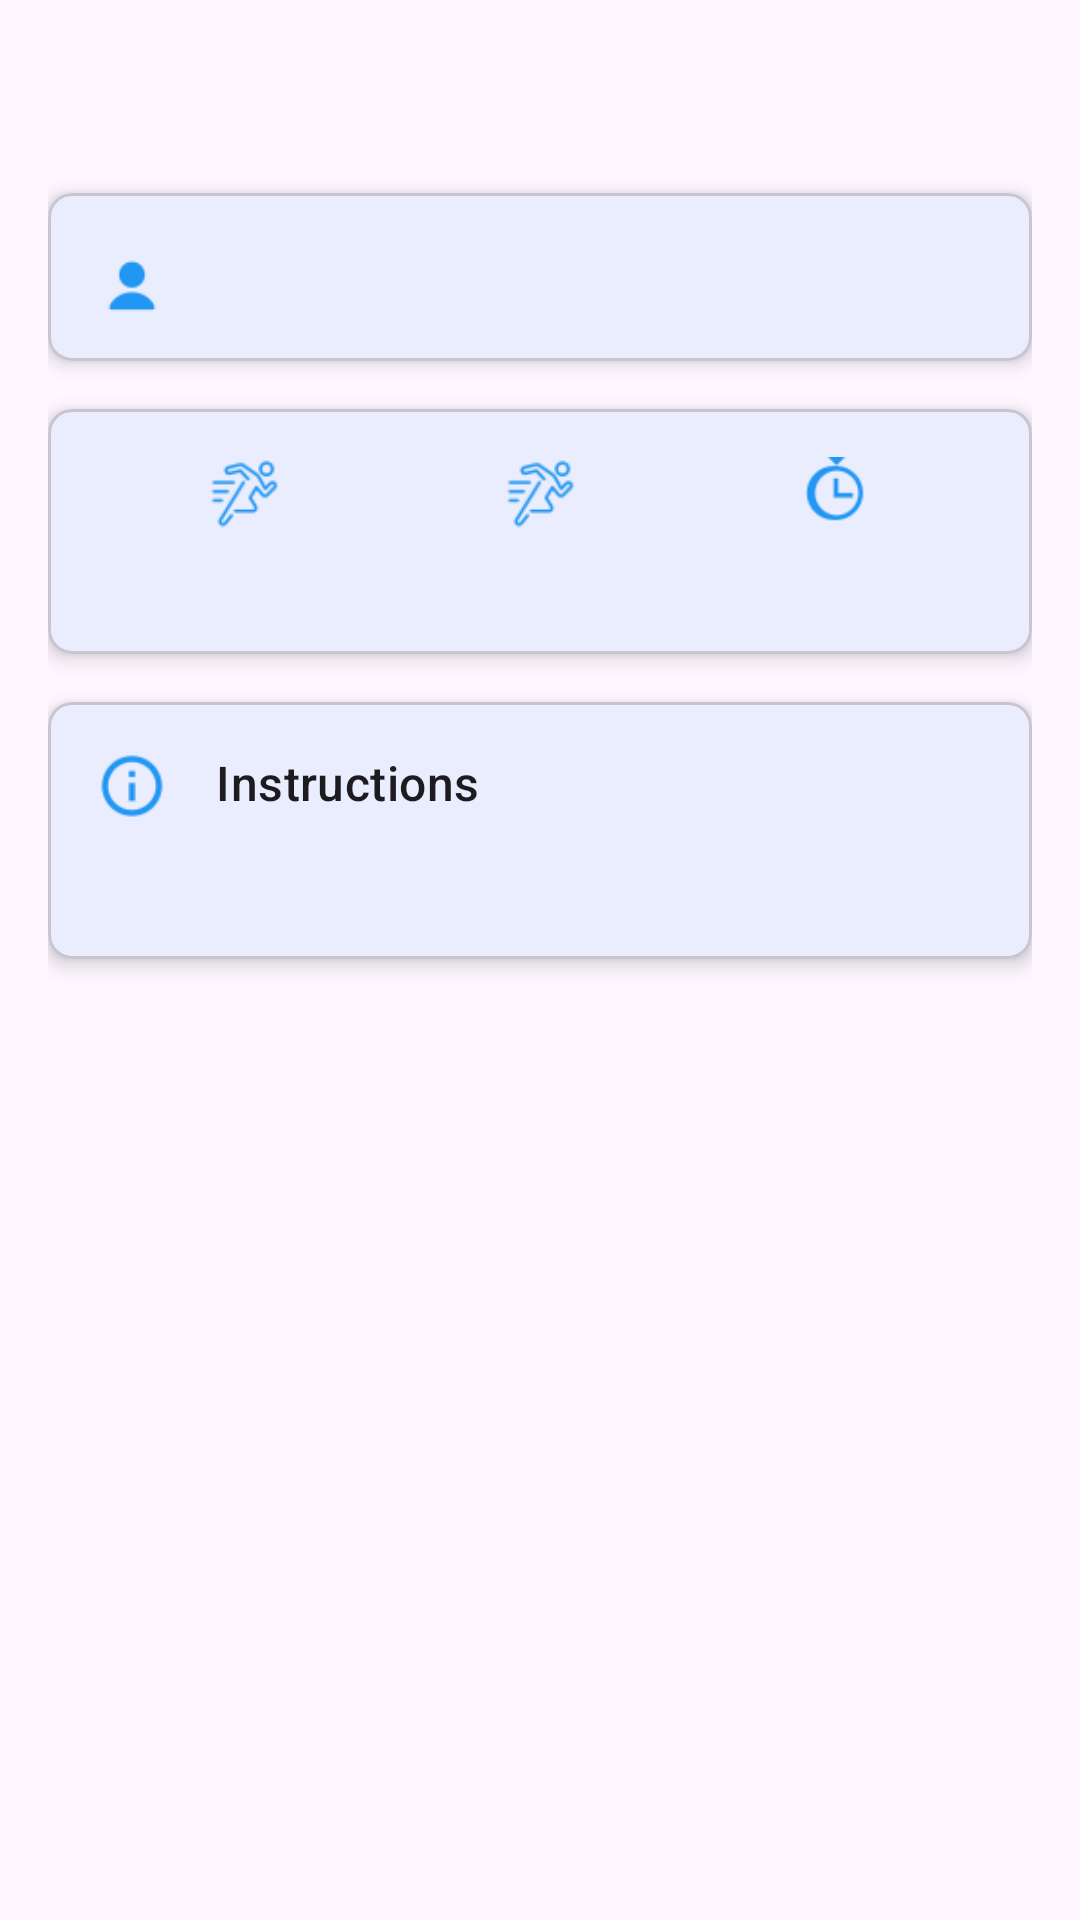

Named icons in this screenshot (1080 × 1920) and their bounding boxes, (x1, y1, x2, y2):
Rest Time: (806, 457, 864, 521)
